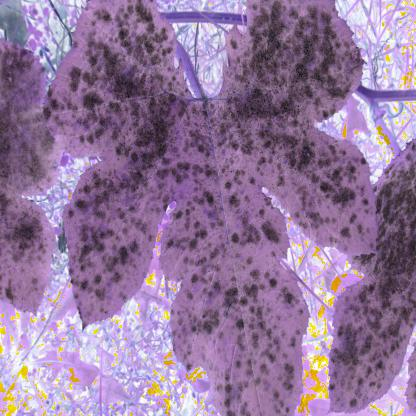Squash Powdery mildew leaf: (46, 2, 378, 416), (326, 144, 416, 409), (0, 41, 59, 313)
